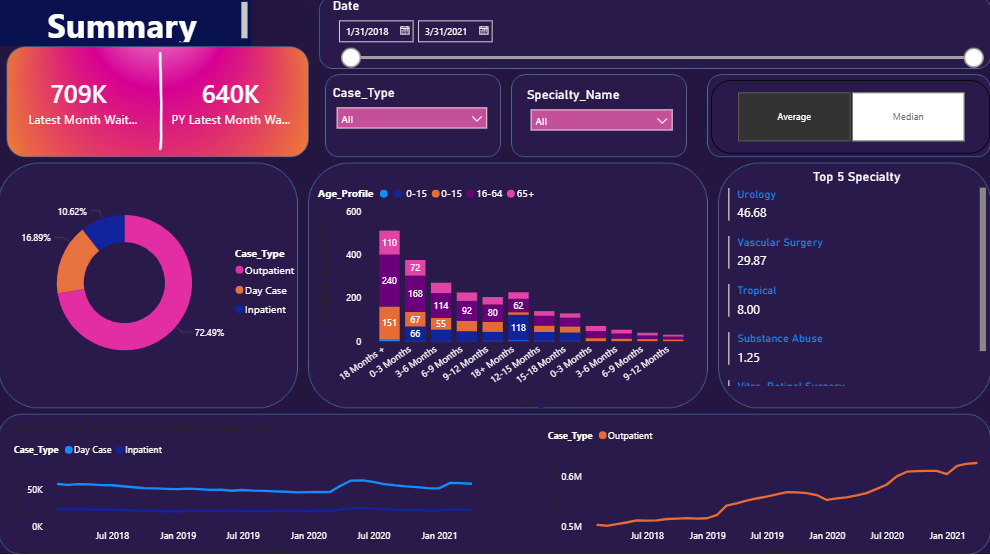

This screenshot's page, from the dashboard's own definition file:
{"tool":"powerbi","page":{"name":"Summery","canvas":[1280,720],"ordinal":0},"visuals":[{"type":"cardVisual","fields":{"Data":["Data.Latest Month Wait lists"]},"box":[0,62.4,208.3,144.6],"z":0},{"type":"cardVisual","fields":{"Data":["Data.PY Latest Month Wait lists"]},"box":[192.8,62.4,215.4,144.6],"z":1000},{"type":"slicer","fields":{"Values":["Calculation Method.Calc Method"]},"box":[919.8,106.3,360,95],"z":2000},{"type":"donutChart","fields":{"Category":["Data.Case_Type"],"Y":["Data.AVG\\Median wait list"]},"box":[15.6,206.9,381.3,321.7],"z":3000},{"type":"slicer","title":"Date","fields":{"Values":["Data.Archive_Date"]},"box":[426.6,0,853.2,92.1],"z":4000},{"type":"slicer","title":"Case_Type","fields":{"Values":["Data.Case_Type"]},"box":[426.6,112,214,83.6],"z":5000},{"type":"slicer","title":"Specialty_Name","fields":{"Values":["Data.Speciality _Name"]},"box":[677.5,114.8,202.7,78],"z":6000},{"type":"textbox","box":[0,0,327.4,62.4],"z":7000},{"type":"multiRowCard","title":"Top 5 Specialty","fields":{"Values":["Data.AVG\\Median wait list","Data.Speciality _Name"]},"box":[936.9,221.1,343,284.9],"z":8000},{"type":"lineChart","fields":{"Category":["Data.Archive_Date"],"Y":["Sum(Data.Total)"],"Series":["Data.Case_Type"]},"box":[16,544,624,176],"z":9000},{"type":"lineChart","fields":{"Category":["Data.Archive_Date"],"Y":["Sum(Data.Total)"],"Series":["Data.Case_Type"]},"box":[704,544,576,176],"z":10000},{"type":"columnChart","fields":{"Category":["Data.Time_Bands"],"Series":["Data.Age_Profile"],"Y":["Data.AVG\\Median wait list"]},"box":[408.2,232.4,528.7,301.9],"z":11000}]}

Visuals, with their boxes in screenshot pixels (x1, y1, x2, y2), scaled from the page's 1280x720 canvas onto the 990x555 screenshot:
cardVisual - Data.Latest Month Wait lists: crop(0, 48, 161, 160)
cardVisual - Data.PY Latest Month Wait lists: crop(149, 48, 316, 160)
slicer - Calculation Method.Calc Method: crop(711, 82, 989, 155)
donutChart - Data.Case_Type x Data.AVG\Median wait list: crop(12, 159, 307, 407)
"Date" slicer: crop(330, 0, 989, 71)
"Case_Type" slicer: crop(330, 86, 495, 151)
"Specialty_Name" slicer: crop(524, 88, 681, 149)
textbox: crop(0, 0, 253, 48)
"Top 5 Specialty" multiRowCard: crop(725, 170, 989, 390)
lineChart - Data.Archive_Date x Sum(Data.Total): crop(12, 419, 495, 554)
lineChart - Data.Archive_Date x Sum(Data.Total): crop(544, 419, 989, 554)
columnChart - Data.Time_Bands x Data.Age_Profile: crop(316, 179, 725, 412)
